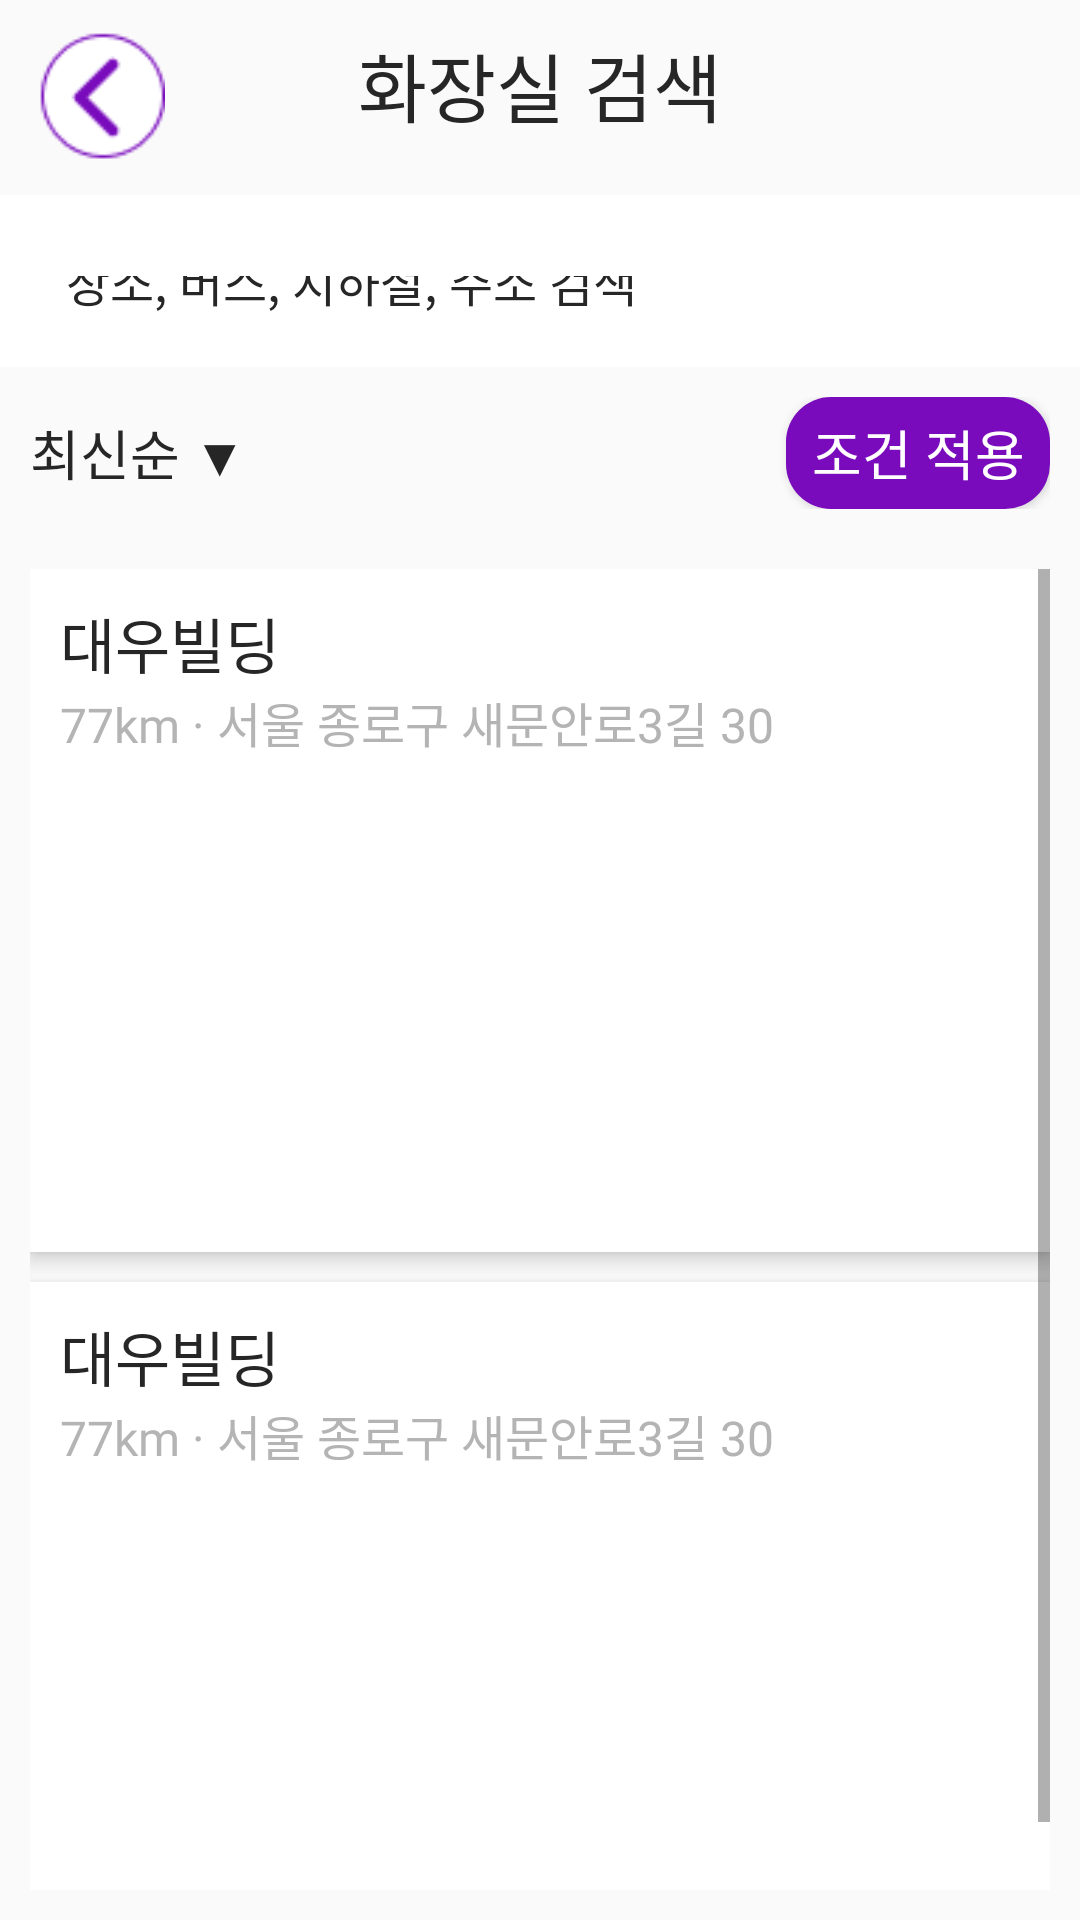

Named icons in this screenshot (1080px×1920px) and their centers, (x,y):
화면 뒤로 돌아가기 버튼: (102,96)
